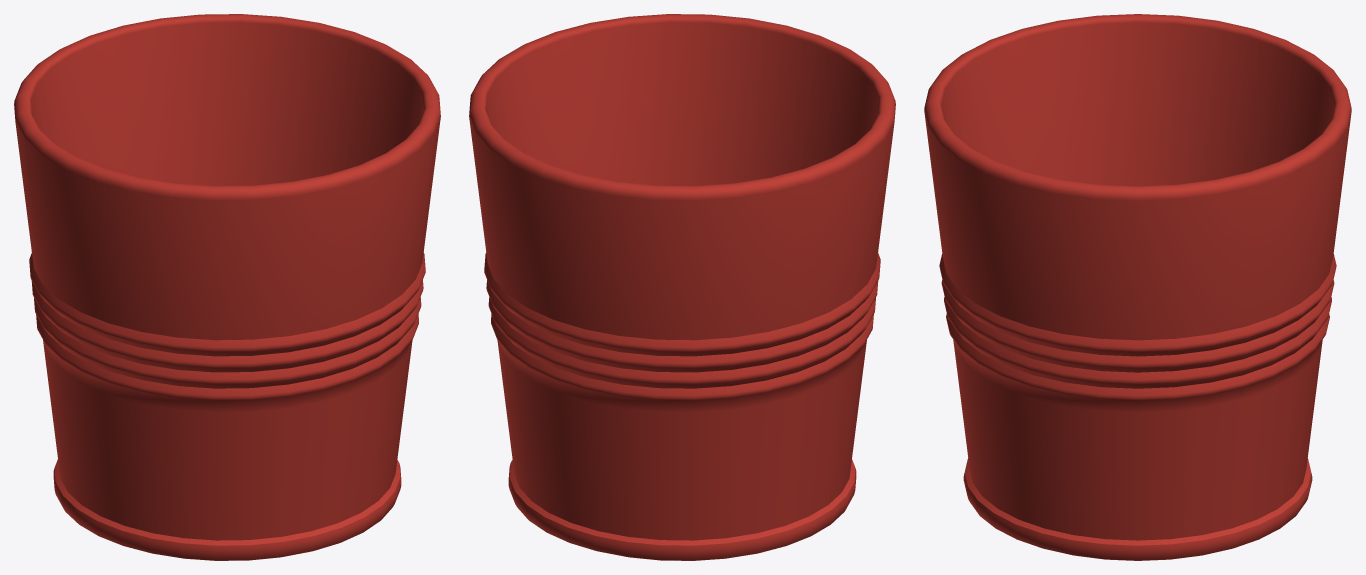
The model's file is bucket.glb.
3 views of the same model, side by side, from view 1: azimuth 30°, elevation 25°; view 2: azimuth 150°, elevation 25°; view 3: azimuth 270°, elevation 25° (orthographic).
Parts seen in each view (by area): view 1: Eimer; view 2: Eimer; view 3: Eimer.
Boxes of the visible parts, box(x1,y1,x2,y2) form: Eimer: box(14, 14, 440, 560); Eimer: box(469, 14, 895, 560); Eimer: box(924, 14, 1351, 560).
Size of the model in its own units: 1.99 by 2 by 1.99.
